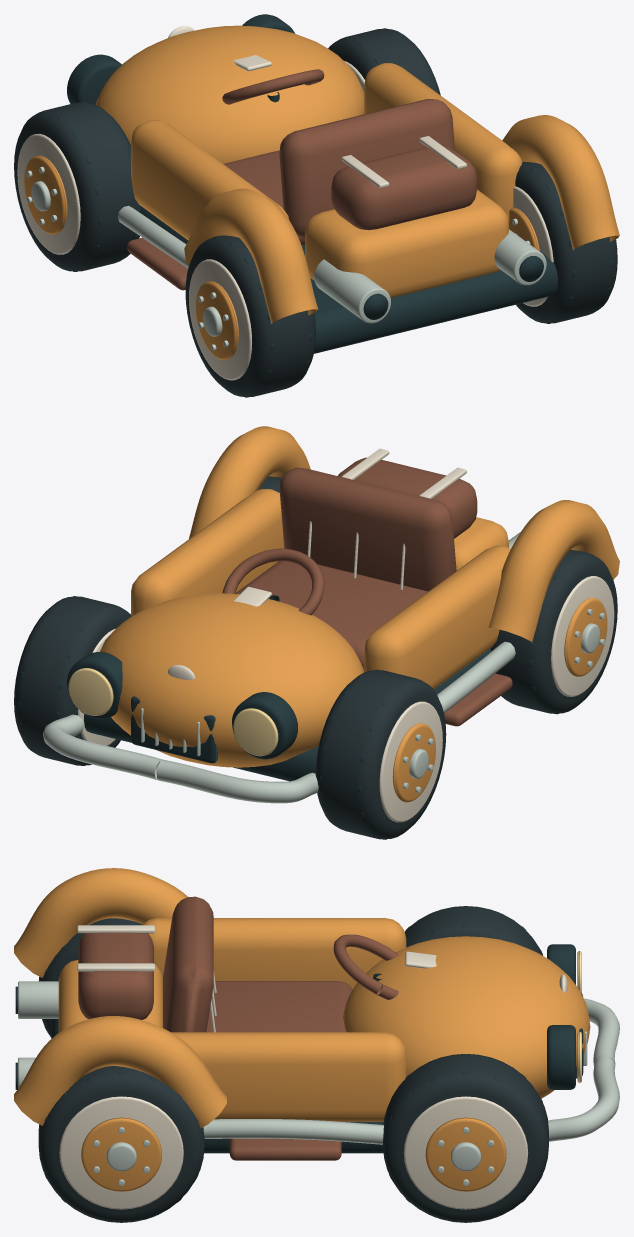
Rendered from racer.glb.
3 views of the same model, one above another, from view 1: azimuth 30°, elevation 25°; view 2: azimuth 150°, elevation 25°; view 3: azimuth 270°, elevation 25° (orthographic).
Visible parts, largest first — view 1: Capot, Marchepied, Plancher, Pneu.001, Pneu, Pneu.002, Arceau latéral, Pneu.003, Flanc crème.002, Flanc crème, Jante.002, Jante (+5 smaller); view 2: Capot, Marchepied, Pneu.001, Pneu.003, Arceau latéral, Plancher, Pneu, Lentille, Flanc crème.002, Flanc crème, BandeCapot, Jante.002 (+3 smaller); view 3: Capot, Marchepied, Pneu.003, Arceau latéral, Pneu.002, Flanc crème.006, Flanc crème.004, Plancher, Jante.004, Jante.006, Pneu.001, BandeCapot (+3 smaller).
Boxes of the visible parts, <box> form: Capot: <box>96,25,619,323</box>; Marchepied: <box>127,69,477,290</box>; Plancher: <box>67,14,558,353</box>; Pneu.001: <box>14,102,140,271</box>; Pneu: <box>185,235,315,396</box>; Pneu.002: <box>515,162,617,323</box>; Arceau latéral: <box>118,205,546,323</box>; Pneu.003: <box>328,29,440,95</box>; Flanc crème.002: <box>17,133,80,254</box>; Flanc crème: <box>189,259,252,380</box>; Jante.002: <box>24,155,67,234</box>; Jante: <box>195,281,238,359</box>; Capot: <box>100,426,619,767</box>; Marchepied: <box>222,457,512,726</box>; Pneu.001: <box>315,670,446,839</box>; Pneu.003: <box>14,596,131,765</box>; Arceau latéral: <box>43,532,520,803</box>; Plancher: <box>67,595,491,781</box>; Pneu: <box>490,550,617,713</box>; Lentille: <box>68,668,278,756</box>; Flanc crème.002: <box>379,701,442,822</box>; Flanc crème: <box>551,576,614,696</box>; BandeCapot: <box>167,448,466,680</box>; Jante.002: <box>392,723,435,802</box>; Capot: <box>14,868,590,1127</box>; Marchepied: <box>78,896,398,1160</box>; Pneu.003: <box>383,1054,548,1222</box>; Arceau latéral: <box>18,981,619,1144</box>; Pneu.002: <box>38,1066,204,1222</box>; Flanc crème.006: <box>403,1096,528,1209</box>; Flanc crème.004: <box>59,1096,183,1209</box>; Plancher: <box>15,944,583,1153</box>; Jante.004: <box>81,1117,161,1191</box>; Jante.006: <box>425,1117,506,1191</box>; Pneu.001: <box>405,906,542,955</box>; BandeCapot: <box>77,925,567,1032</box>.
Size of the model in its own units: 2.47 by 1.28 by 3.36.
